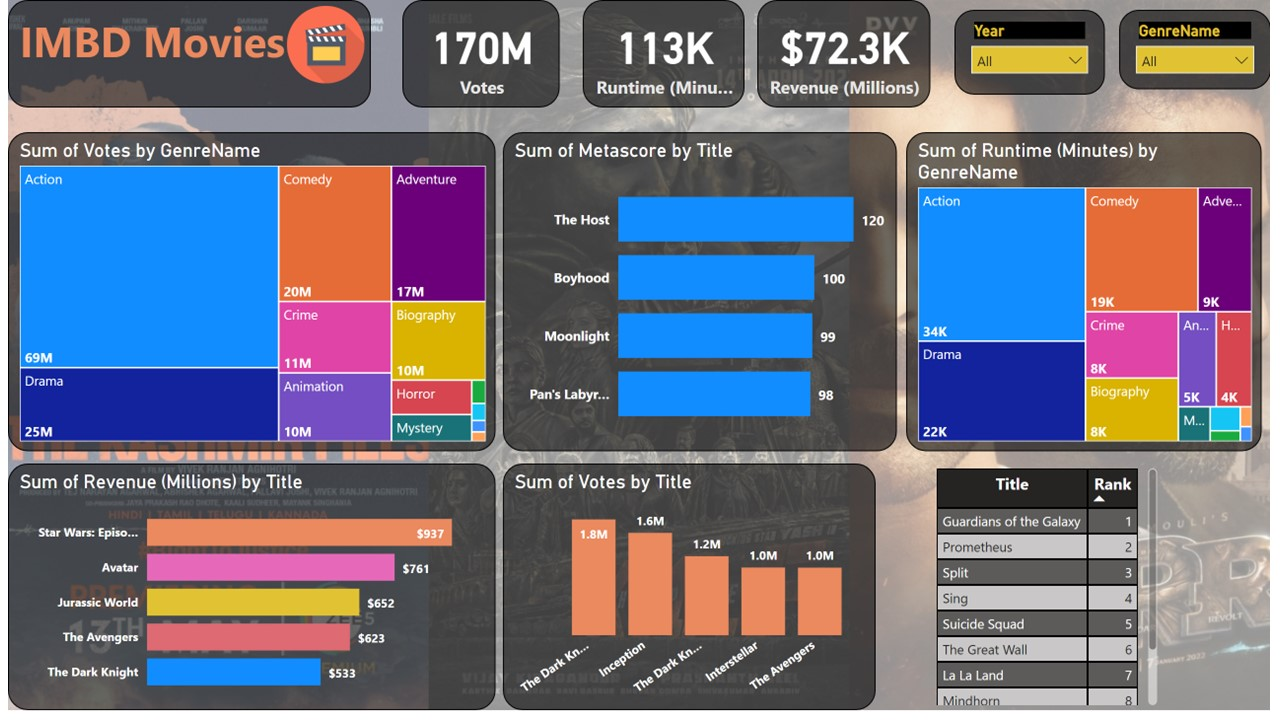

This screenshot's page, from the dashboard's own definition file:
{"tool":"powerbi","page":{"name":"IMBD Movies","canvas":[1280,720],"ordinal":0},"visuals":[{"type":"card","fields":{"Values":["Sum(IMDB-Movie-Data.Votes)"]},"box":[399.5,0,159.5,109.2],"z":0},{"type":"card","fields":{"Values":["Sum(IMDB-Movie-Data.Runtime (Minutes))"]},"box":[583.5,0,163.8,109.2],"z":1000},{"type":"card","fields":{"Values":["Sum(IMDB-Movie-Data.Revenue (Millions))"]},"box":[760.2,0,175.3,109.2],"z":2000},{"type":"clusteredBarChart","fields":{"Category":["IMDB-Movie-Data.Title"],"Y":["Sum(IMDB-Movie-Data.Revenue (Millions))"]},"box":[0,469.9,494.4,250.1],"z":3000},{"type":"columnChart","fields":{"Y":["Sum(IMDB-Movie-Data.Votes)"],"Category":["IMDB-Movie-Data.Title"]},"box":[501.6,469.9,378,250.1],"z":4000},{"type":"clusteredBarChart","fields":{"Category":["IMDB-Movie-Data.Title"],"Y":["Sum(IMDB-Movie-Data.Metascore)"]},"box":[501.6,133.7,399.5,323.4],"z":5000},{"type":"treemap","fields":{"Group":["IMDB-Movie-Data.GenreName"],"Values":["Sum(IMDB-Movie-Data.Votes)"]},"box":[0,133.7,494.4,323.4],"z":6000},{"type":"treemap","fields":{"Group":["IMDB-Movie-Data.GenreName"],"Values":["Sum(IMDB-Movie-Data.Runtime (Minutes))"]},"box":[911.1,133.7,360.7,323.4],"z":7000},{"type":"tableEx","fields":{"Values":["IMDB-Movie-Data.Title","Sum(IMDB-Movie-Data.Rank)"]},"box":[935.6,469.9,234.3,250.1],"z":8000},{"type":"slicer","fields":{"Values":["IMDB-Movie-Data.Year"]},"box":[960,10.1,152.3,86.2],"z":9000},{"type":"slicer","fields":{"Values":["IMDB-Movie-Data.GenreName"]},"box":[1126.7,10.1,153.8,80.5],"z":10000},{"type":"textbox","box":[0,0,367.9,109.2],"z":11000},{"type":"image","box":[277.4,0,90.5,90.5],"z":11001}]}

Visuals, with their boxes in screenshot pixels (x1, y1, x2, y2), scaled from the page's 1280x720 canvas onto the 1280x720 screenshot:
card - Sum(IMDB-Movie-Data.Votes): [400, 0, 559, 109]
card - Sum(IMDB-Movie-Data.Runtime (Minutes)): [584, 0, 747, 109]
card - Sum(IMDB-Movie-Data.Revenue (Millions)): [760, 0, 936, 109]
clusteredBarChart - IMDB-Movie-Data.Title x Sum(IMDB-Movie-Data.Revenue (Millions)): [0, 470, 494, 719]
columnChart - Sum(IMDB-Movie-Data.Votes) x IMDB-Movie-Data.Title: [502, 470, 880, 719]
clusteredBarChart - IMDB-Movie-Data.Title x Sum(IMDB-Movie-Data.Metascore): [502, 134, 901, 457]
treemap - IMDB-Movie-Data.GenreName x Sum(IMDB-Movie-Data.Votes): [0, 134, 494, 457]
treemap - IMDB-Movie-Data.GenreName x Sum(IMDB-Movie-Data.Runtime (Minutes)): [911, 134, 1272, 457]
tableEx - IMDB-Movie-Data.Title x Sum(IMDB-Movie-Data.Rank): [936, 470, 1170, 719]
slicer - IMDB-Movie-Data.Year: [960, 10, 1112, 96]
slicer - IMDB-Movie-Data.GenreName: [1127, 10, 1279, 91]
textbox: [0, 0, 368, 109]
image: [277, 0, 368, 90]
